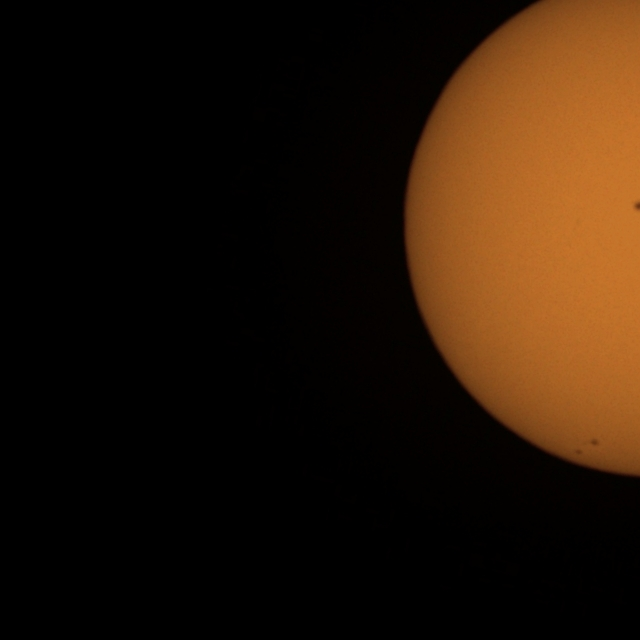sunspot: (574, 436, 600, 457), (632, 197, 640, 214)
